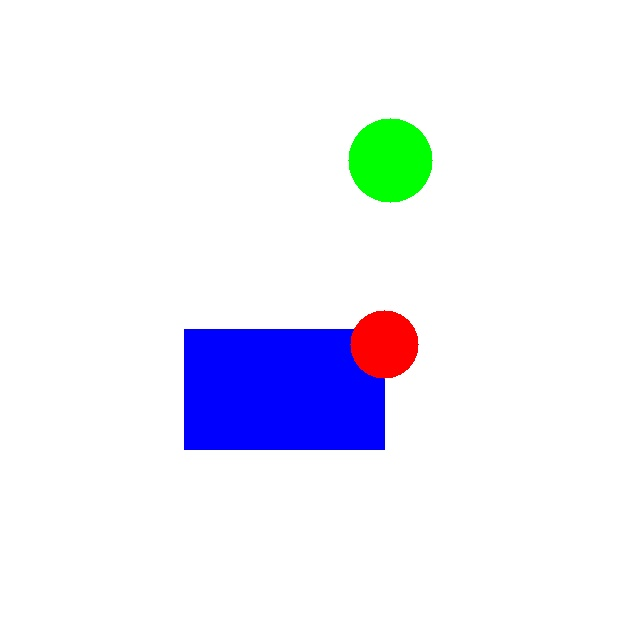cartao: (184, 329, 384, 449)
rosca_externa: (348, 118, 432, 202)
rosca_interna: (350, 310, 418, 378)
